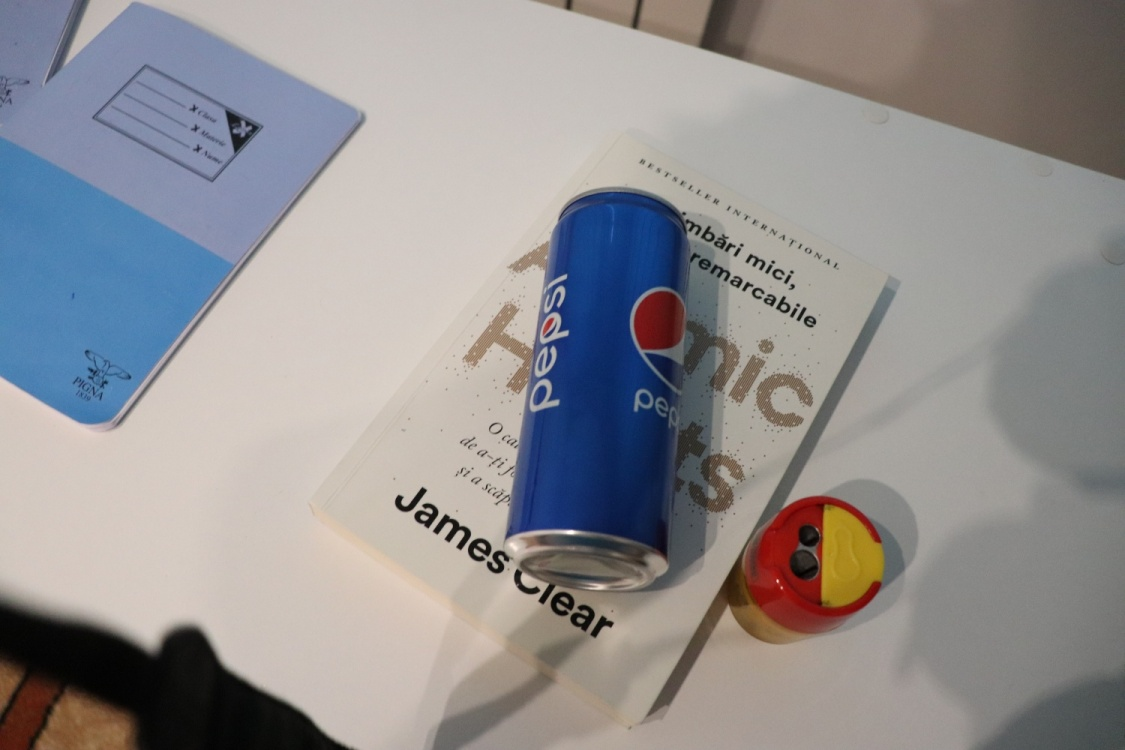pepsi: (496, 180, 700, 605)
